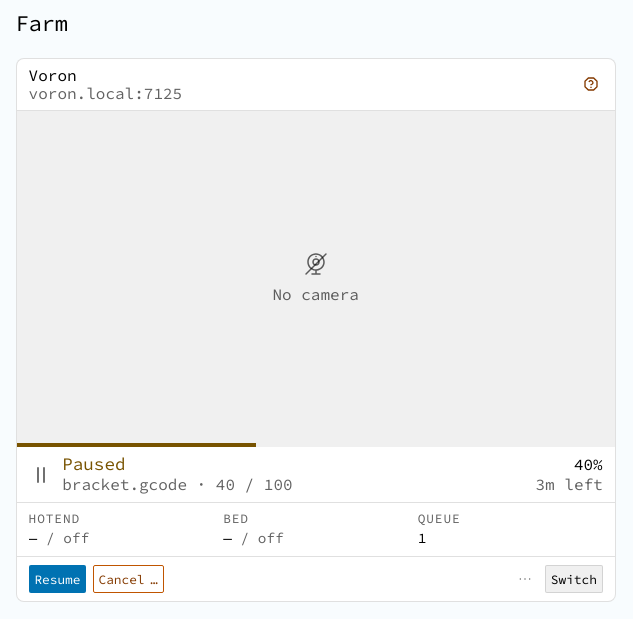
Test: the farm grid › refuses homing on a machine with a job loaded
Click the button named "More actions for Voron": click(525, 579) [511,565,539,593]
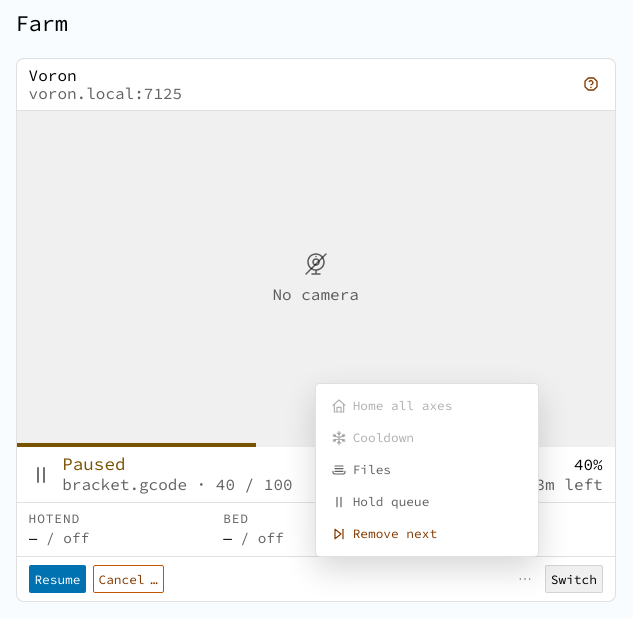
expect the button "Home all axes" is disabled: met, box [322,390,531,422]
